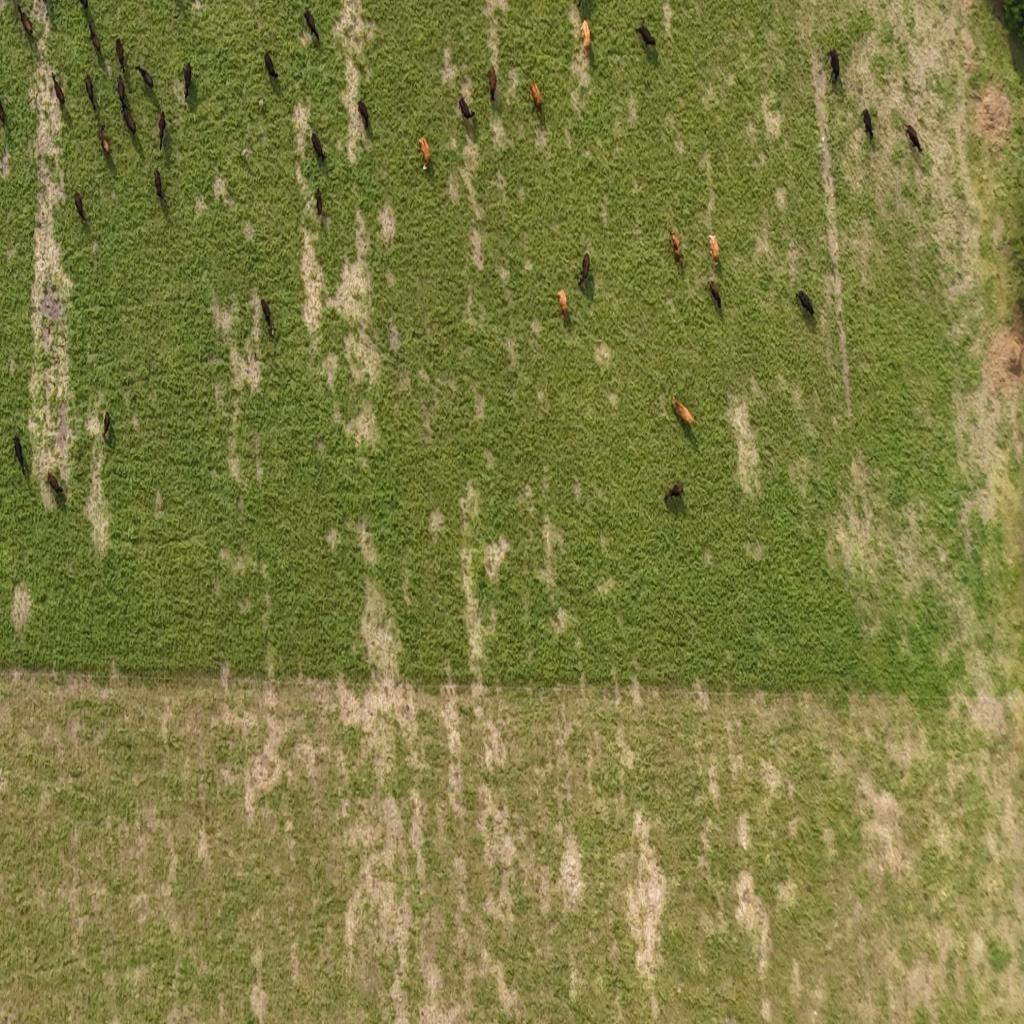cow: (672, 396, 694, 426), (302, 7, 320, 43), (13, 434, 28, 476), (260, 300, 276, 339), (121, 101, 137, 136), (18, 8, 34, 40), (796, 291, 815, 317), (905, 124, 922, 153), (51, 71, 65, 106), (636, 24, 656, 48), (577, 254, 590, 290), (136, 64, 154, 90), (458, 95, 476, 120), (264, 50, 278, 82), (311, 132, 326, 161), (708, 280, 722, 311), (670, 228, 682, 264), (47, 472, 64, 497), (828, 48, 840, 83), (665, 483, 684, 504), (84, 73, 95, 109), (557, 288, 568, 323), (862, 108, 874, 140), (74, 191, 86, 223), (580, 19, 591, 53), (358, 99, 370, 130), (420, 136, 430, 173), (708, 233, 720, 263), (99, 126, 111, 156), (531, 82, 542, 114), (117, 74, 127, 108), (182, 62, 192, 96), (90, 29, 101, 59), (154, 168, 164, 200), (116, 37, 125, 71), (158, 110, 166, 148), (488, 66, 496, 102), (0, 96, 8, 127), (315, 188, 323, 218), (103, 410, 111, 438), (78, 0, 89, 14), (576, 0, 584, 13)
